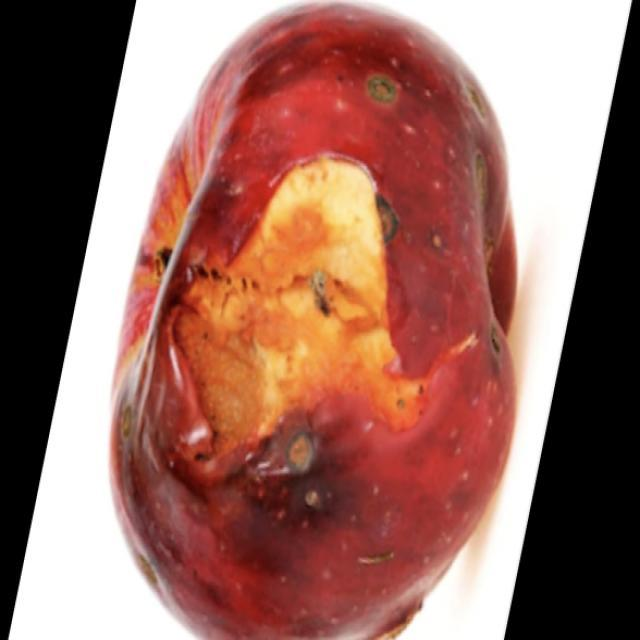Rotten: (137, 31, 528, 626)
